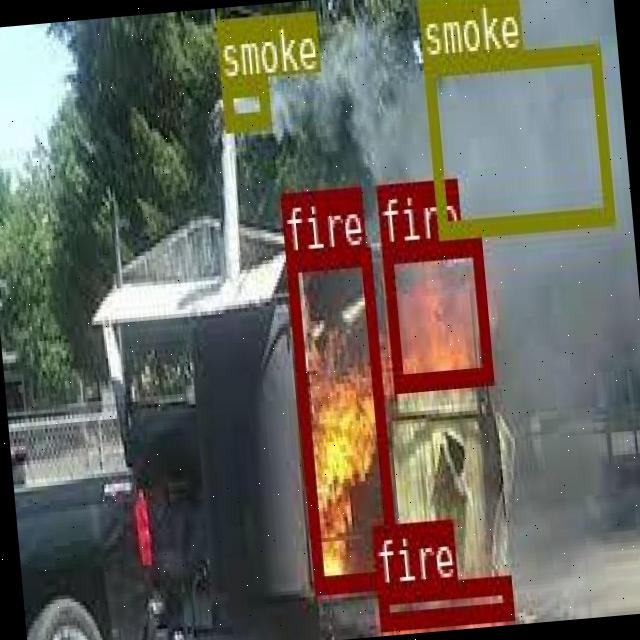fire: (285, 245, 397, 590), (380, 234, 490, 387), (377, 574, 512, 626)
smoke: (420, 39, 612, 234), (220, 74, 270, 128)
